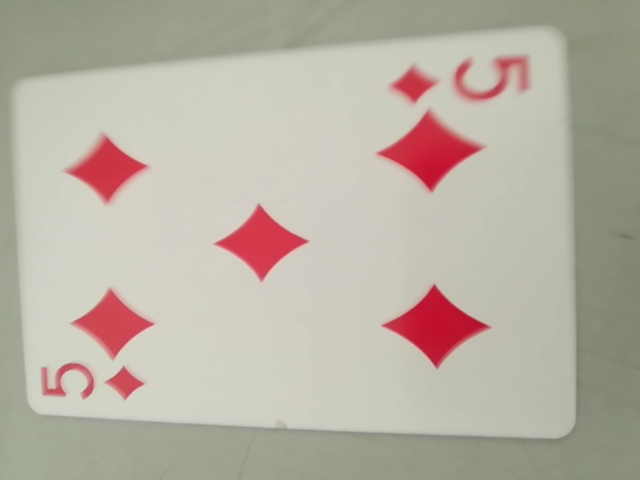fk 5: (388, 45, 538, 114), (27, 356, 149, 412)
